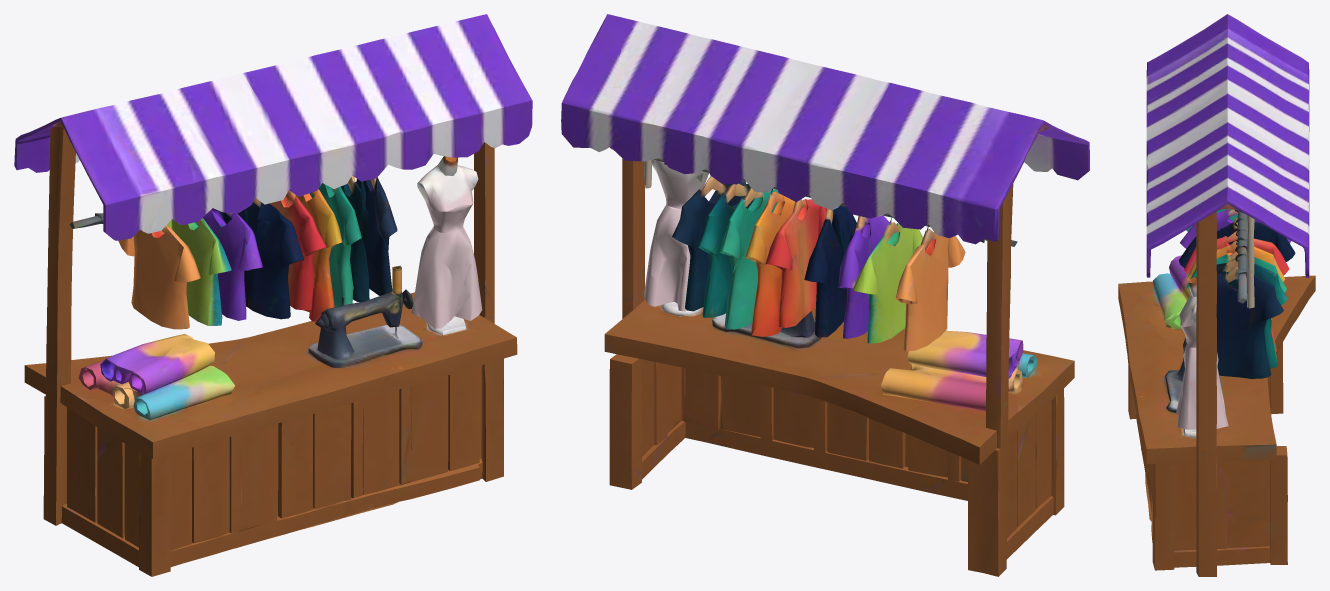
Rendered from stall_tailor.glb.
3 renders of one model, left to right at view 1: azimuth 30°, elevation 25°; view 2: azimuth 150°, elevation 25°; view 3: azimuth 270°, elevation 25°, orthographic. The views are drawn at different scales.
Parts seen in each view (by area): view 1: model; view 2: model; view 3: model.
Boxes of the visible parts, <box> form: model: <box>14,14,532,576</box>; model: <box>561,14,1089,576</box>; model: <box>1118,14,1315,576</box>.
Size of the model in its own units: 1.9 by 1.81 by 0.8492.
1 material, 1 textured.
